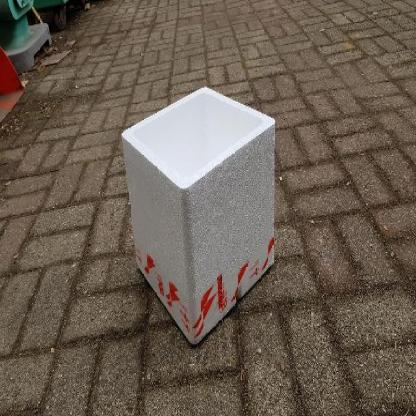Glass Cup: (122, 85, 276, 347), (122, 87, 275, 345)
